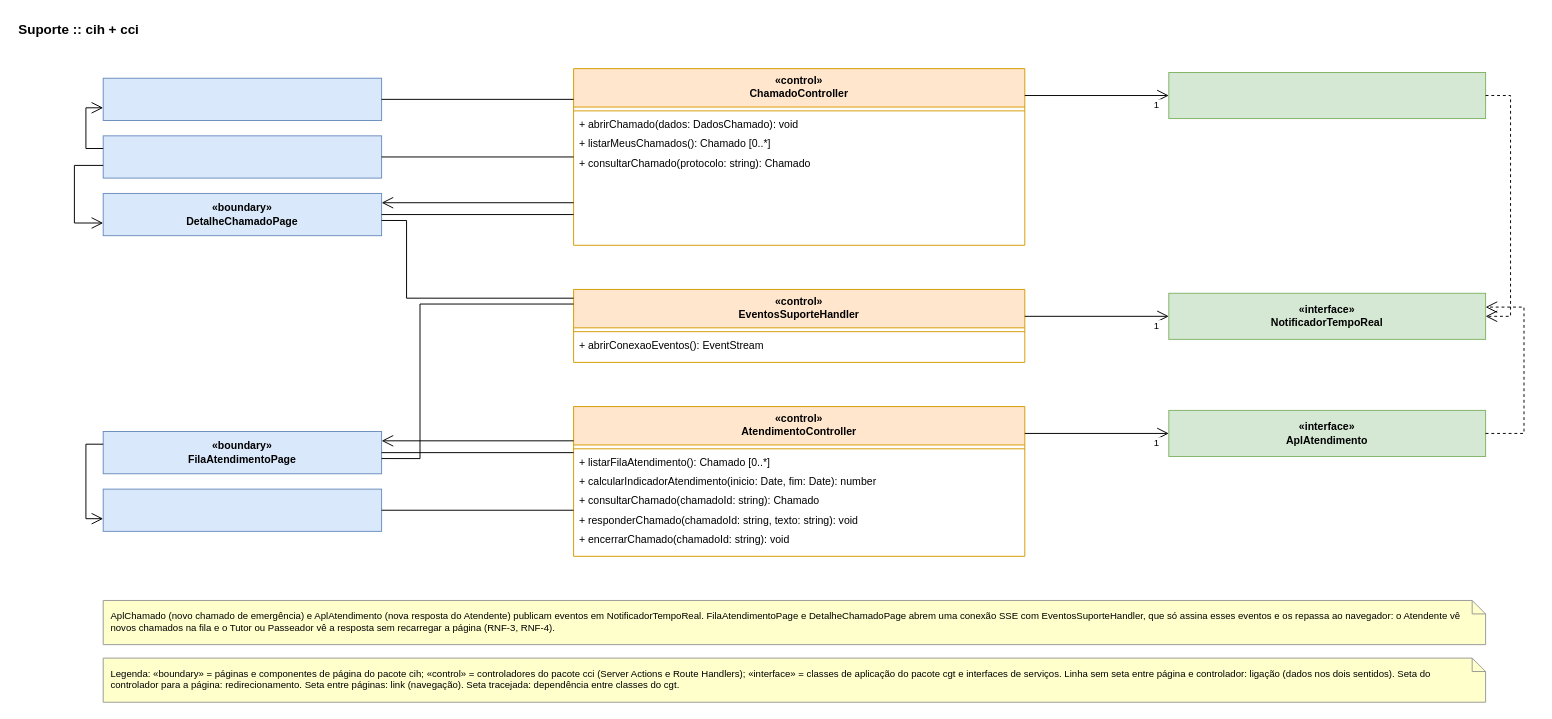
The diagram is 1552 pixels wide and 719 high, and some of its shapes have lost their labels. Each missing label, with the centre of its shape:
"«boundary» AbrirChamadoPage" belongs at [242,98].
"«boundary» AtendimentoChamadoPage" belongs at [242,509].
"«boundary» MeusChamadosPage" belongs at [242,156].
"«interface» AplChamado" belongs at [1327,95].
